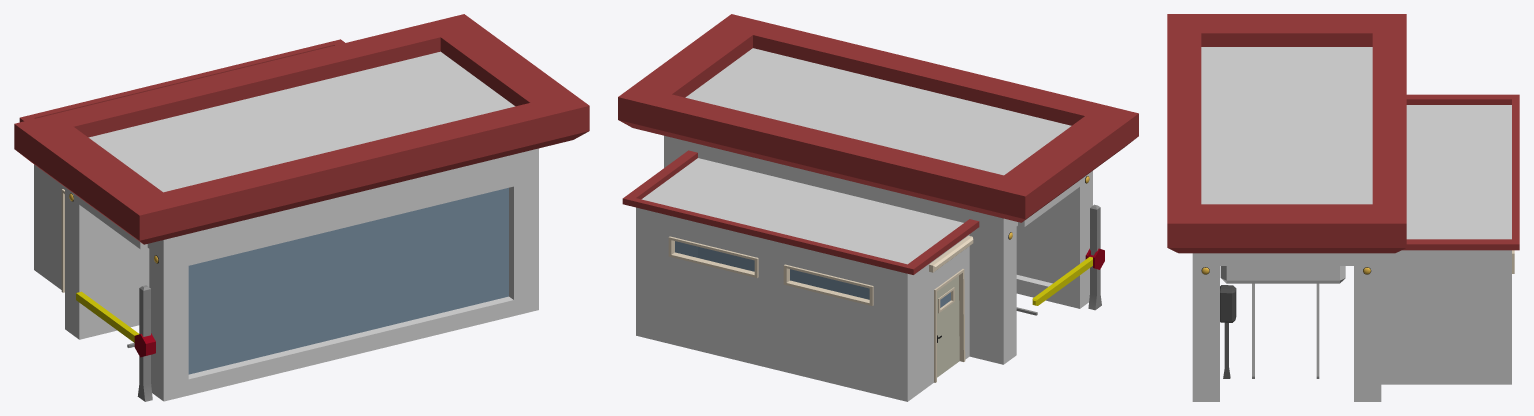
Rendered from CarWash.fbx.
3 renders of one model, left to right at view 1: azimuth 30°, elevation 25°; view 2: azimuth 150°, elevation 25°; view 3: azimuth 270°, elevation 25°, orthographic. The views are drawn at different scales.
Visible parts, largest first — view 1: car_wash3, pCylinder13, Barrier; view 2: car_wash3, Barrier, pCylinder13; view 3: car_wash3, pSphere10.
Part boxes in pixels (x1,y1,x2,y2): car_wash3: [14, 14, 589, 401]; pCylinder13: [76, 291, 155, 357]; Barrier: [137, 285, 152, 401]; car_wash3: [618, 14, 1138, 401]; Barrier: [1088, 204, 1101, 310]; pCylinder13: [1032, 248, 1104, 305]; car_wash3: [1167, 14, 1519, 401]; pSphere10: [1220, 266, 1345, 283].
Size of the model in its own units: 1203 by 527 by 854.
